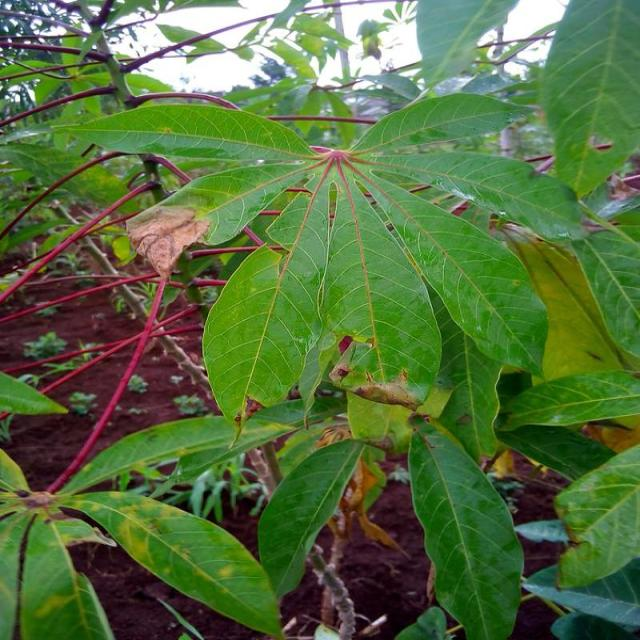cassava leaf: (2, 1, 640, 638), (408, 417, 526, 638), (258, 436, 366, 598)
